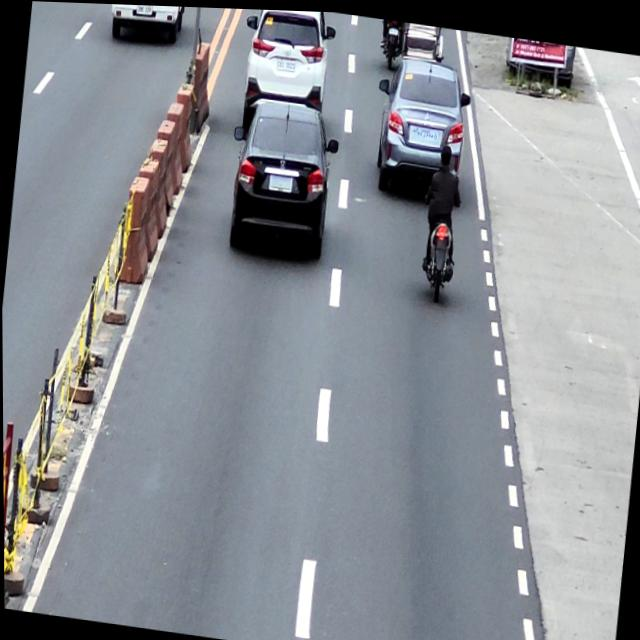Car: (221, 93, 342, 260), (367, 53, 474, 198), (234, 7, 339, 139), (106, 3, 187, 42)
License-Plate: (268, 172, 292, 191), (275, 56, 295, 71), (414, 122, 434, 137), (135, 4, 153, 13), (387, 23, 399, 33)
Motorcycle: (415, 175, 463, 303)
Tricycle: (380, 16, 447, 66)
